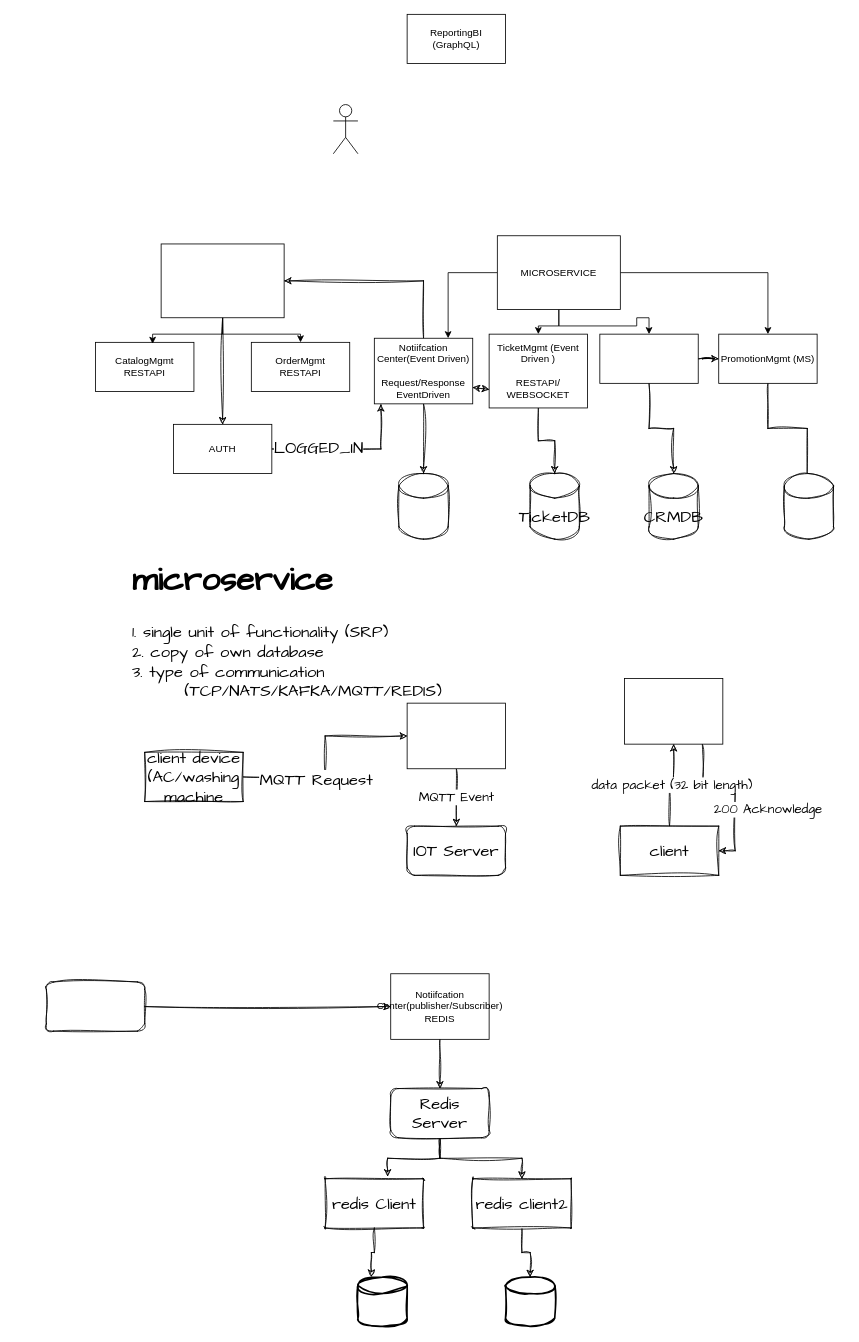
This 859x1342 diagram has some shape labels left out. Each missing label, with the box of its shape:
client 100K client clientProxy(port:3001) protoccol:30011: (46, 981, 145, 1031)
CORE: (160, 243, 284, 318)
CRM: (599, 333, 698, 383)
notification DB: (398, 473, 448, 539)
Notiifcation Center(Event Driven) MQTT - IOT comunication: (406, 702, 506, 769)
Notiifcation Center(Event Driven) TCP: (624, 678, 723, 744)
PromoDB: (784, 473, 834, 539)
user merchant csr admin: (333, 104, 358, 154)
